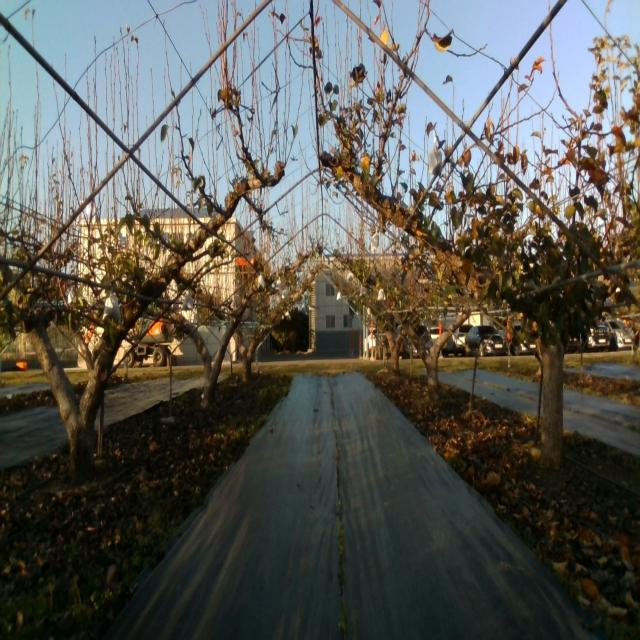pearbags: (102, 292, 122, 324), (428, 145, 442, 177), (182, 294, 194, 314)
